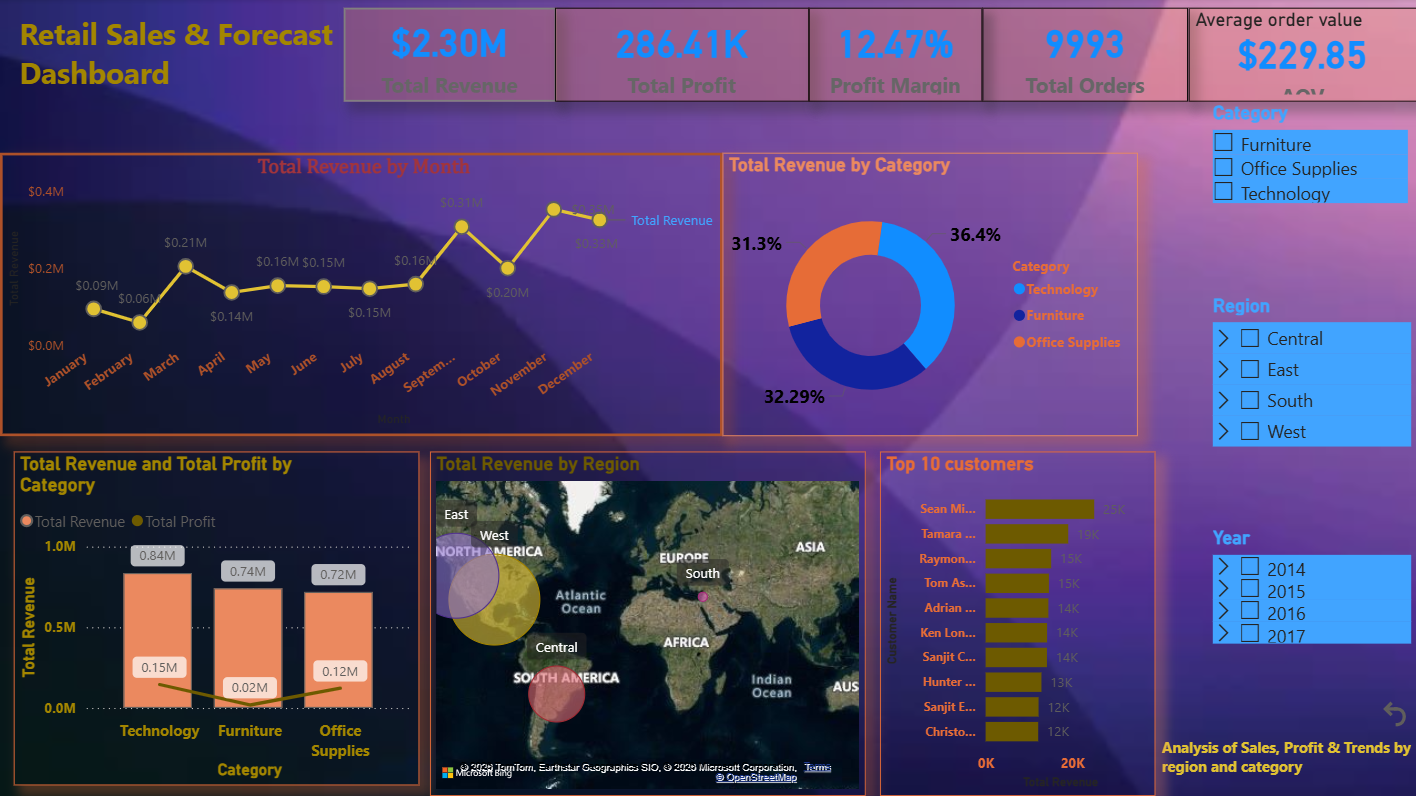

The page's visual inventory and layout, read from the dashboard file:
{"tool":"powerbi","page":{"name":"Page 1","canvas":[1280,720],"ordinal":0},"visuals":[{"type":"card","fields":{"Values":["clean-data_sheet.Total Revenue"]},"box":[310.1,8.4,191.8,84.5],"z":0,"group":"g1"},{"type":"card","fields":{"Values":["clean-data_sheet.Total Profit"]},"box":[501.9,8.4,229.2,84.5],"z":1000,"group":"g1"},{"type":"card","fields":{"Values":["clean-data_sheet.Total Orders"]},"box":[887.9,8.4,185.8,84.5],"z":2000,"group":"g1"},{"type":"card","fields":{"Values":["clean-data_sheet.Profit Margin"]},"box":[731.1,8.4,156.8,84.5],"z":3000,"group":"g1"},{"type":"card","title":"Average order value","fields":{"Values":["clean-data_sheet.AOV"]},"box":[1073.7,8.4,206.3,84.5],"z":4000,"group":"g1"},{"type":"textbox","box":[12.1,8.4,314.9,84.5],"z":5000,"group":"g1"},{"type":"textbox","box":[1045,662.5,235,48.8],"z":6000,"group":"g1"},{"type":"lineChart","fields":{"Y":["clean-data_sheet.Total Revenue"],"Category":["clean-data_sheet.Order_Date.Variation.Date Hierarchy.Year","clean-data_sheet.Order_Date.Variation.Date Hierarchy.Quarter","clean-data_sheet.Order_Date.Variation.Date Hierarchy.Month","clean-data_sheet.Order_Date.Variation.Date Hierarchy.Day"]},"box":[0,139.9,652.7,255.8],"z":7000,"group":"g1"},{"type":"lineClusteredColumnComboChart","fields":{"Category":["clean-data_sheet.Category"],"Y2":["clean-data_sheet.Total Profit"],"Y":["clean-data_sheet.Total Revenue"]},"box":[12.1,408.9,366.8,301.6],"z":8000,"group":"g1"},{"type":"map","fields":{"Category":["clean-data_sheet.Region","clean-data_sheet.State","clean-data_sheet.City"],"Size":["clean-data_sheet.Total Revenue"]},"box":[388.5,408.9,393.3,311.3],"z":9000,"group":"g1"},{"type":"donutChart","fields":{"Category":["clean-data_sheet.Category"],"Y":["clean-data_sheet.Total Revenue"]},"box":[652.7,139.9,375.2,255.8],"z":10000,"group":"g1"},{"type":"clusteredBarChart","title":"Top 10 customers","fields":{"Category":["clean-data_sheet.Customer Name"],"Y":["clean-data_sheet.Total Revenue"]},"box":[795,408.9,248.5,311.3],"z":11000,"group":"g1"},{"type":"listSlicer","fields":{"Values":["clean-data_sheet.Order_Date.Variation.Date Hierarchy.Year","clean-data_sheet.Order_Date.Variation.Date Hierarchy.Quarter","clean-data_sheet.Order_Date.Variation.Date Hierarchy.Month","clean-data_sheet.Order_Date.Variation.Date Hierarchy.Day"]},"box":[1090.6,476.5,189.4,191.8],"z":12000,"group":"g1"},{"type":"listSlicer","fields":{"Values":["clean-data_sheet.Category"]},"box":[1090.6,92.9,187,208.7],"z":13000,"group":"g1"},{"type":"listSlicer","fields":{"Values":["clean-data_sheet.Region","clean-data_sheet.State","clean-data_sheet.City"]},"box":[1090.6,266.6,189.4,259.4],"z":14000,"group":"g1"},{"type":"group","id":"g1","title":"Group 1","box":[0,8.4,1280,711.8],"z":14002},{"type":"actionButton","box":[1243.8,630.4,33.8,31.4],"z":15000,"group":"g1"}]}

Visuals, with their boxes in screenshot pixels (x1, y1, x2, y2), scaled from the page's 1280x720 canvas onto the 1416x796 screenshot:
card - clean-data_sheet.Total Revenue: Rect(343, 9, 555, 103)
card - clean-data_sheet.Total Profit: Rect(555, 9, 809, 103)
card - clean-data_sheet.Total Orders: Rect(982, 9, 1188, 103)
card - clean-data_sheet.Profit Margin: Rect(809, 9, 982, 103)
"Average order value" card: Rect(1188, 9, 1415, 103)
textbox: Rect(13, 9, 362, 103)
textbox: Rect(1156, 732, 1415, 786)
lineChart - clean-data_sheet.Total Revenue x clean-data_sheet.Order_Date.Variation.Date Hierarchy.Year: Rect(0, 155, 722, 437)
lineClusteredColumnComboChart - clean-data_sheet.Category x clean-data_sheet.Total Profit: Rect(13, 452, 419, 785)
map - clean-data_sheet.Region x clean-data_sheet.State: Rect(430, 452, 865, 795)
donutChart - clean-data_sheet.Category x clean-data_sheet.Total Revenue: Rect(722, 155, 1137, 437)
"Top 10 customers" clusteredBarChart: Rect(879, 452, 1154, 795)
listSlicer - clean-data_sheet.Order_Date.Variation.Date Hierarchy.Year x clean-data_sheet.Order_Date.Variation.Date Hierarchy.Quarter: Rect(1206, 527, 1415, 739)
listSlicer - clean-data_sheet.Category: Rect(1206, 103, 1413, 333)
listSlicer - clean-data_sheet.Region x clean-data_sheet.State: Rect(1206, 295, 1415, 582)
"Group 1" group: Rect(0, 9, 1415, 795)
actionButton: Rect(1376, 697, 1413, 732)
